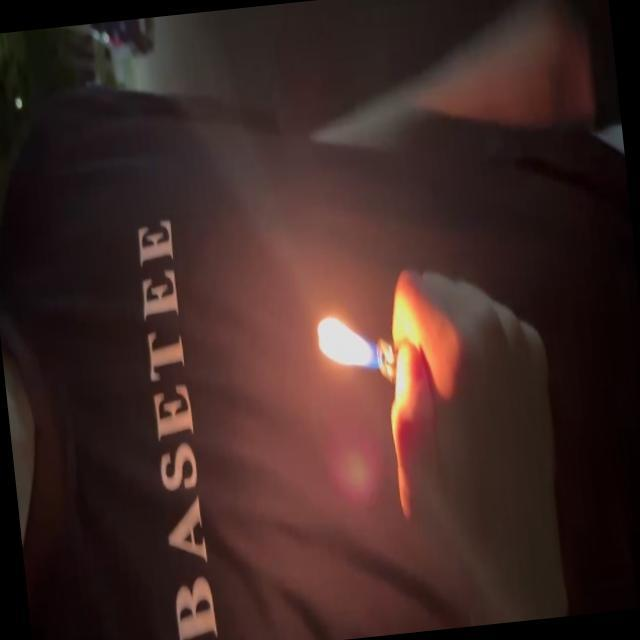Fire: (312, 306, 388, 376)
